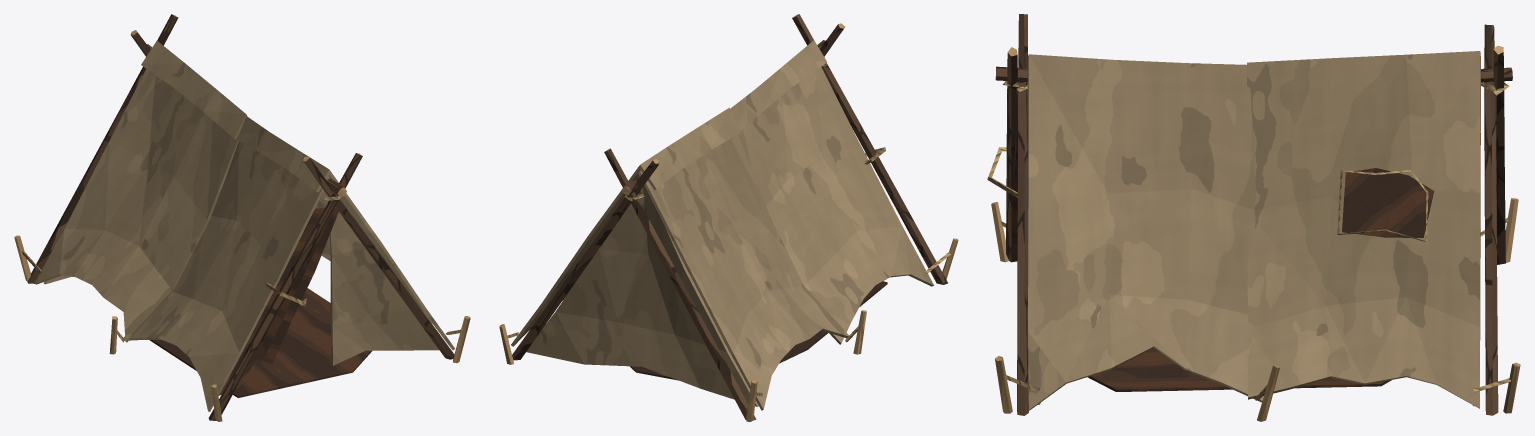
The model's file is SM_SmallEnemyTent.fbx.
3 renders of one model, left to right at view 1: azimuth 30°, elevation 25°; view 2: azimuth 150°, elevation 25°; view 3: azimuth 270°, elevation 25°, orthographic. The views are drawn at different scales.
Parts seen in each view (by area): view 1: SM_SmallEnemyTent; view 2: SM_SmallEnemyTent; view 3: SM_SmallEnemyTent.
Part boxes in pixels (box(x1,y1,x2,y2)): SM_SmallEnemyTent: box(14, 14, 470, 421); SM_SmallEnemyTent: box(499, 14, 958, 421); SM_SmallEnemyTent: box(987, 14, 1520, 421).
Bounding box in the file's own units: 1.8 × 1.5 × 2.36.
